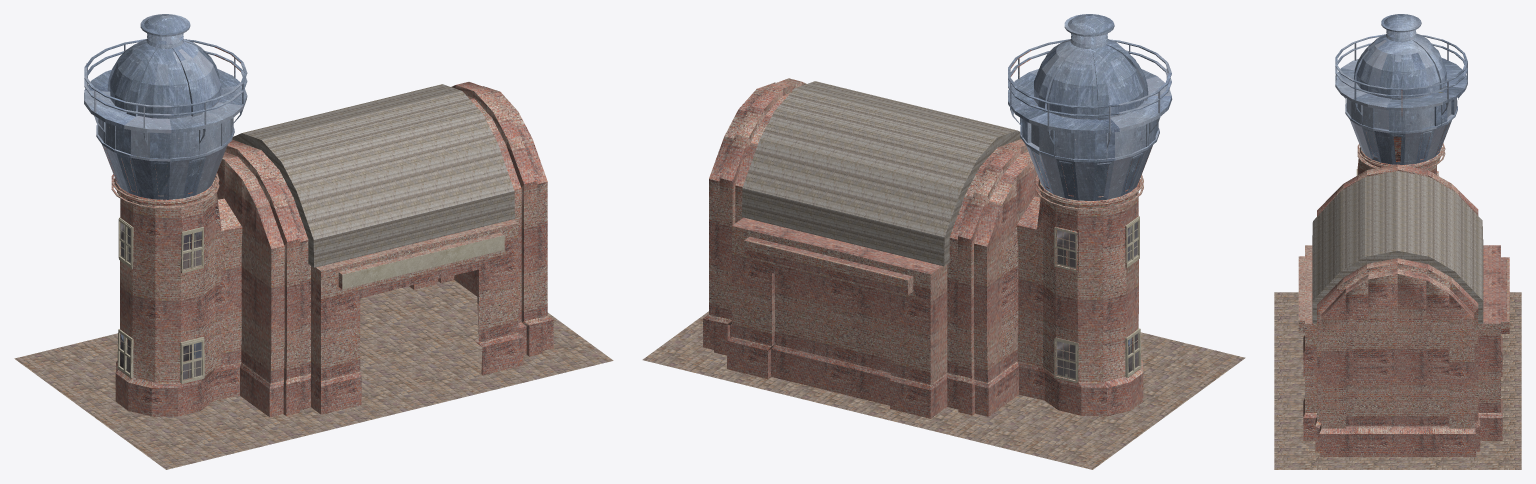
Rendered from pnmtexp.fbx.
The picture shows the model from 3 angles, left to right: view 1: azimuth 30°, elevation 25°; view 2: azimuth 150°, elevation 25°; view 3: azimuth 270°, elevation 25°; orthographic projection. The views are drawn at different scales.
Parts seen in each view (by area): view 1: Sphere; view 2: Sphere; view 3: Sphere.
Boxes of the visible parts, box(x1,y1,x2,y2) form: Sphere: box(14, 14, 613, 469); Sphere: box(642, 14, 1245, 469); Sphere: box(1274, 14, 1521, 469).
Bounding box in the file's own units: 1130 × 910 × 665.
6 materials, 6 textured.
